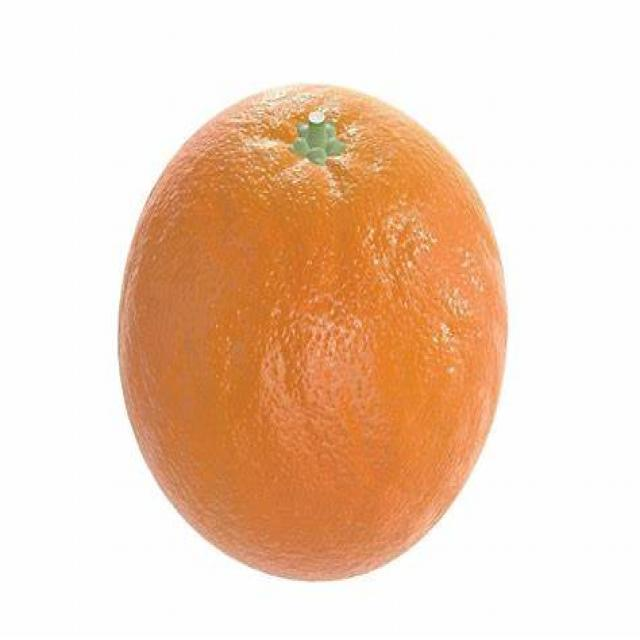Orange: (125, 81, 510, 590)
